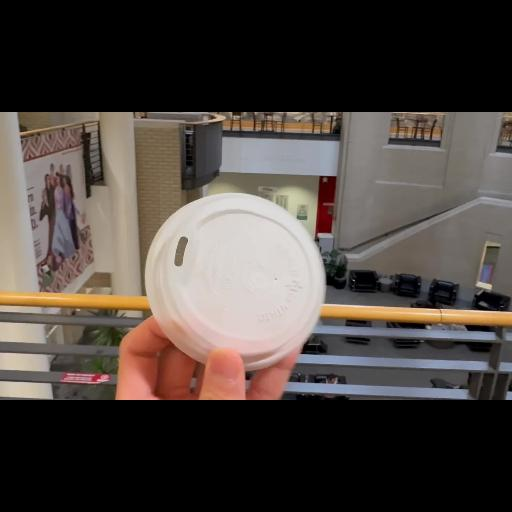lp_paper_cup: (142, 190, 326, 374)
